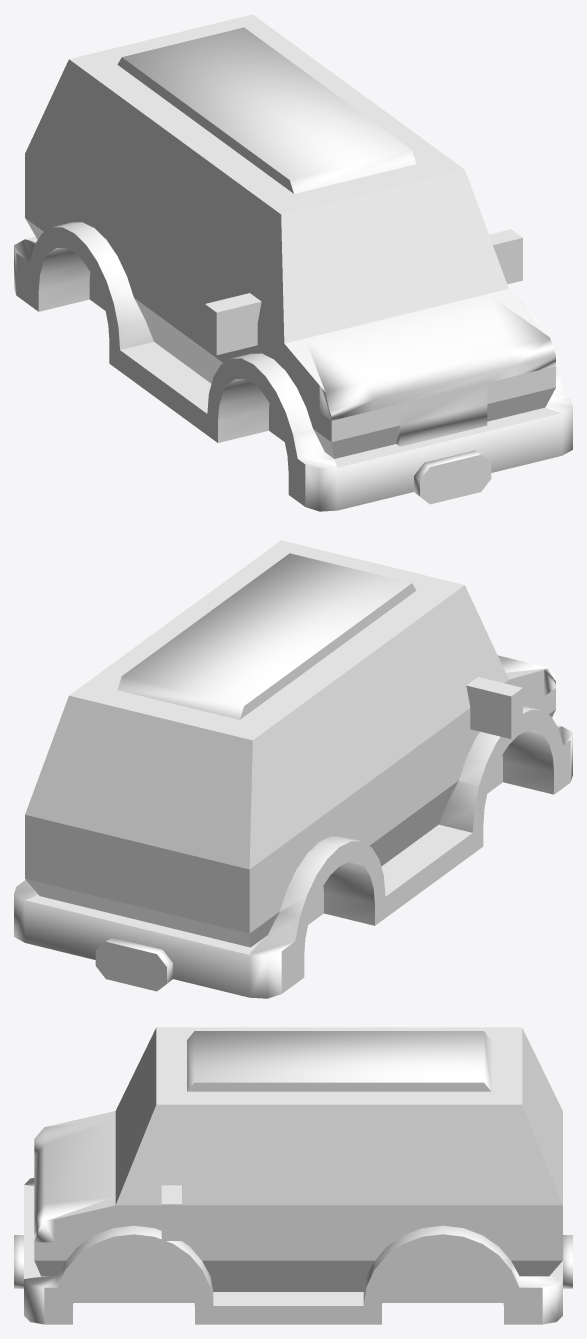
Rendered from van-vehicle.glb.
The picture shows the model from 3 angles, top to bottom: view 1: azimuth 30°, elevation 25°; view 2: azimuth 150°, elevation 25°; view 3: azimuth 270°, elevation 25°; orthographic projection. The views are drawn at different scales.
Visible parts, largest first — view 1: van-vehicle; view 2: van-vehicle; view 3: van-vehicle.
Boxes of the visible parts, x1,y1,x2,y2 form: van-vehicle: (14,14,572,511); van-vehicle: (14,540,572,998); van-vehicle: (14,1027,572,1324).
Bounding box in the file's own units: 1.5 × 1.2 × 2.75.
Materials: 1 (1 with a texture image).
